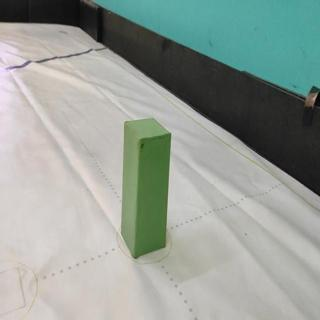greenbox: (120, 117, 174, 261)
